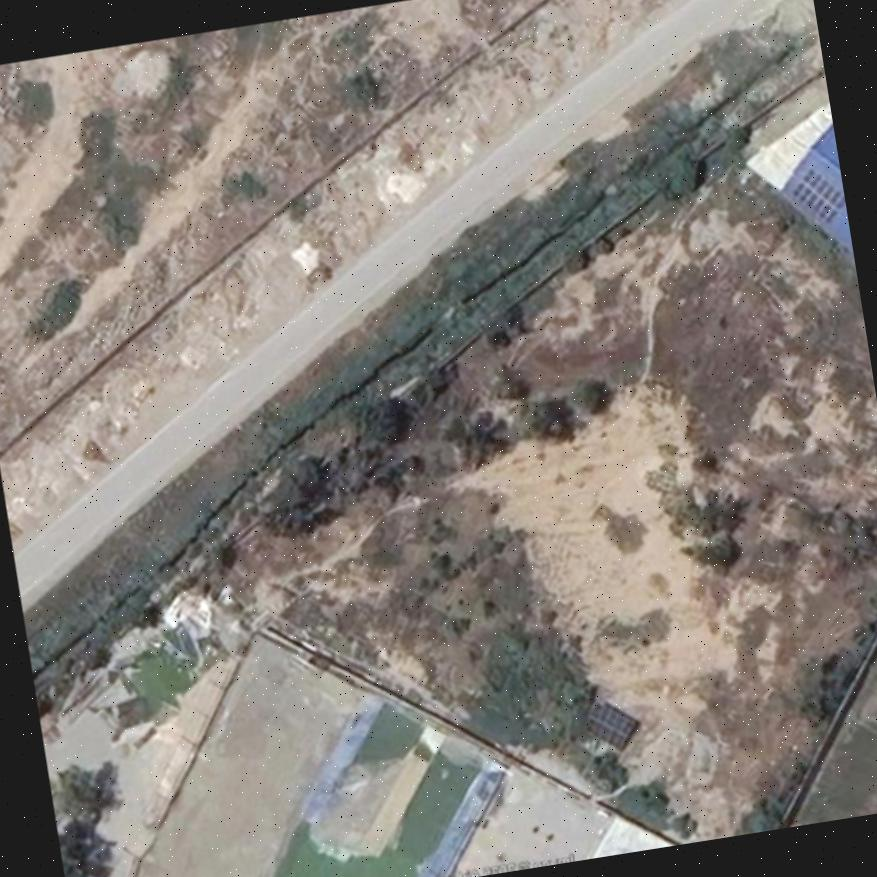Solarpanel: (791, 167, 845, 225), (580, 699, 636, 752)
